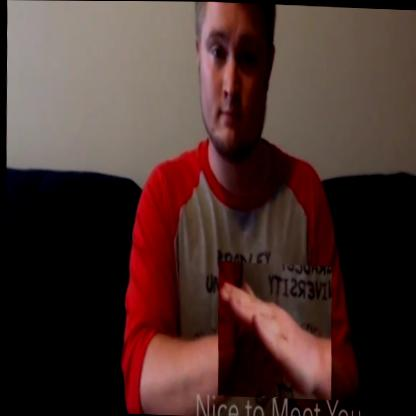NiceToMeetYou: (213, 262, 334, 400)
